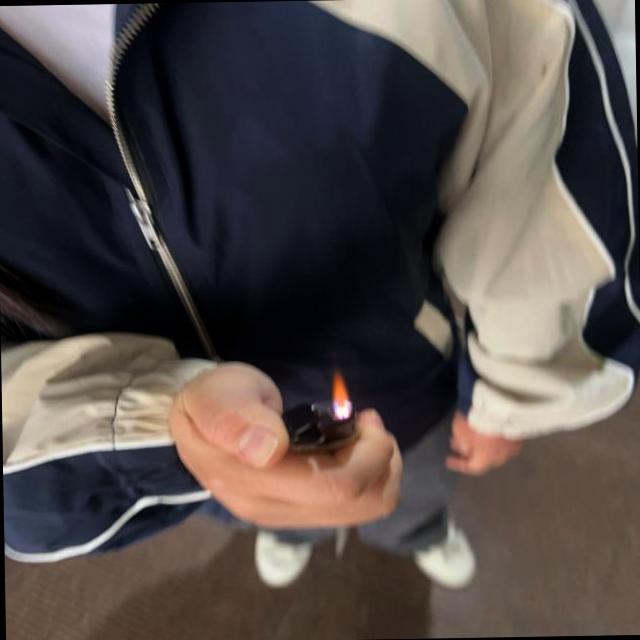fire: (331, 366, 355, 416)
